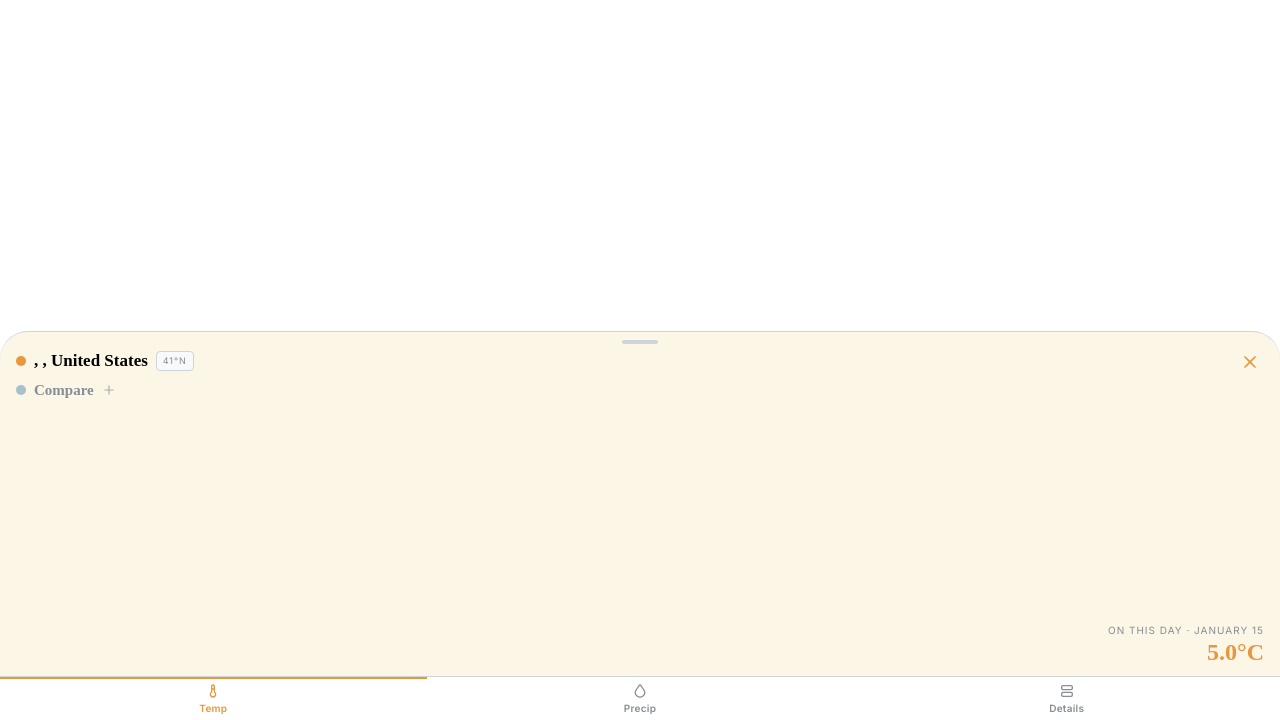
Test: MobileCityDrawer › switches to the Details tab and hides the chart when Details is tapped
Click the button "Details": (1067, 698) left=853, top=677, right=1279, bottom=719
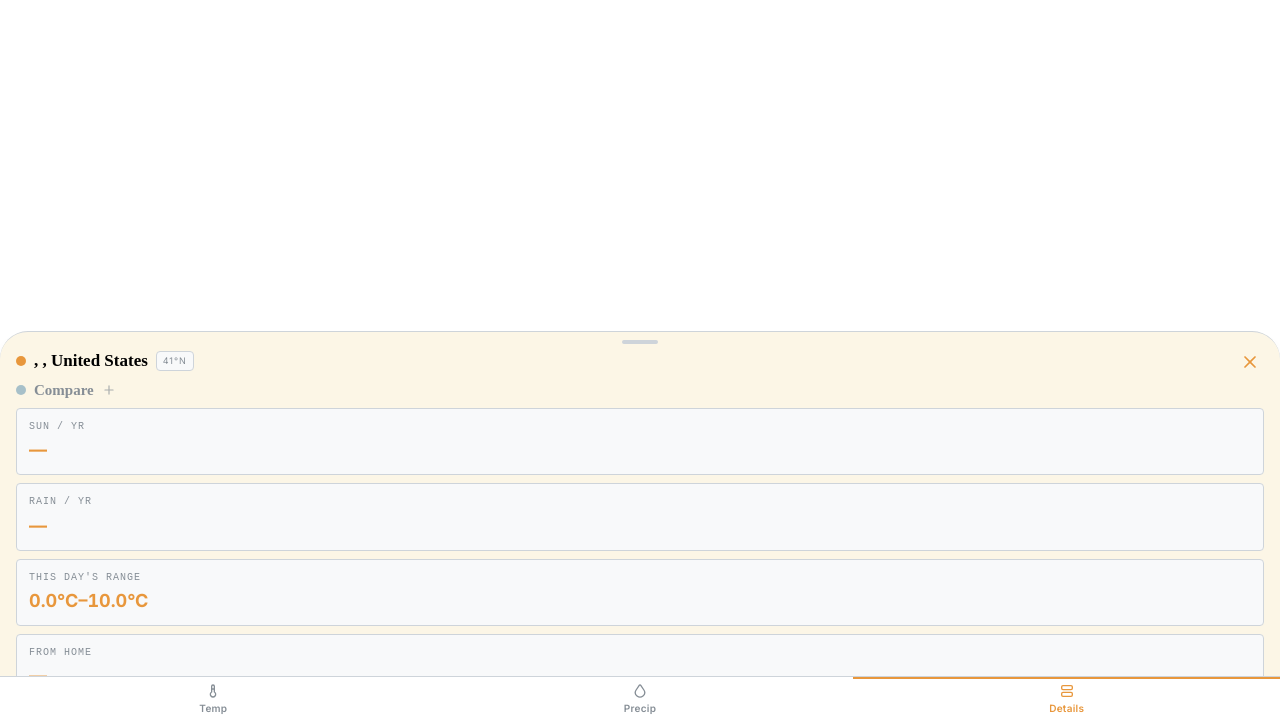
Now the element with test id "mobile-details-list" is shown, box left=16, top=408, right=1264, bottom=676
